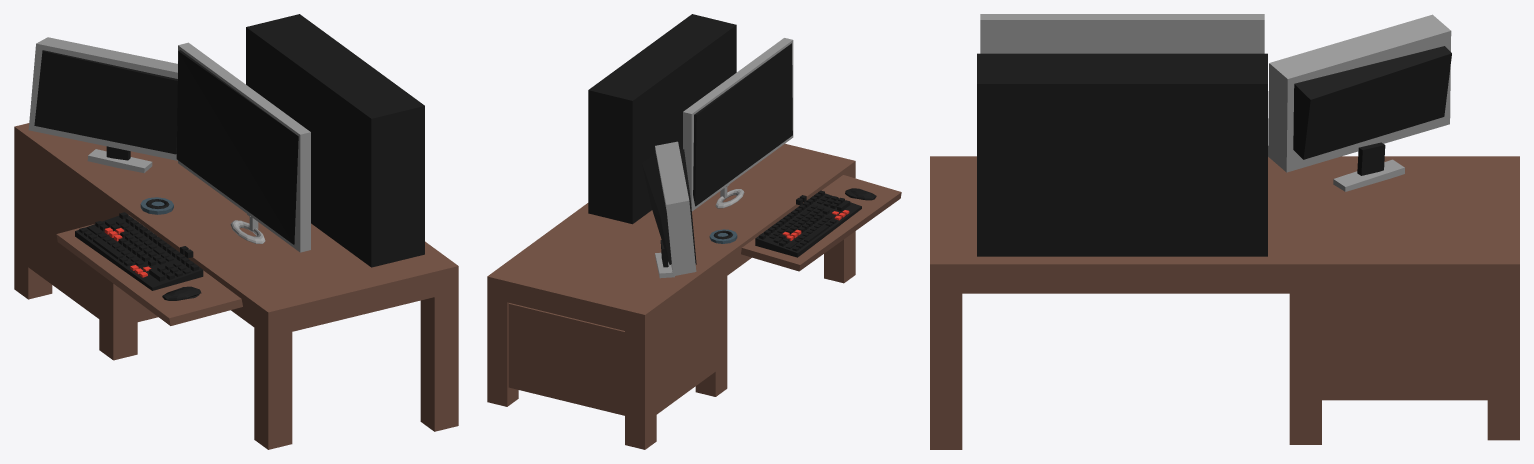
The model's file is AnimateDesk.glb.
The picture shows the model from 3 angles, left to right: view 1: azimuth 30°, elevation 25°; view 2: azimuth 150°, elevation 25°; view 3: azimuth 270°, elevation 25°; orthographic projection. The views are drawn at different scales.
Parts seen in each view (by area): view 1: Node; view 2: Node; view 3: Node.
Boxes of the visible parts, x1,y1,x2,y2 form: Node: (14, 14, 458, 449); Node: (487, 14, 901, 449); Node: (930, 14, 1519, 449).
Size of the model in its own units: 0.9981 by 1.11 by 1.64.
